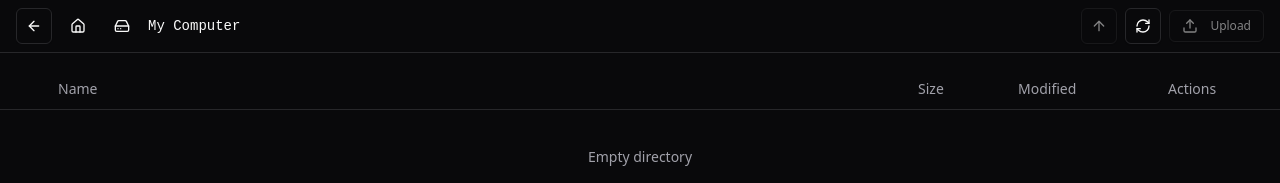
FileList initial user directory › retries the home request when the initial request failed
This screenshot has width=1280, height=183.
Expected: the button "Upload" is disabled, [1169, 10, 1264, 42]
Click the button named "Refresh" at (1143, 26), box [1125, 8, 1161, 44]
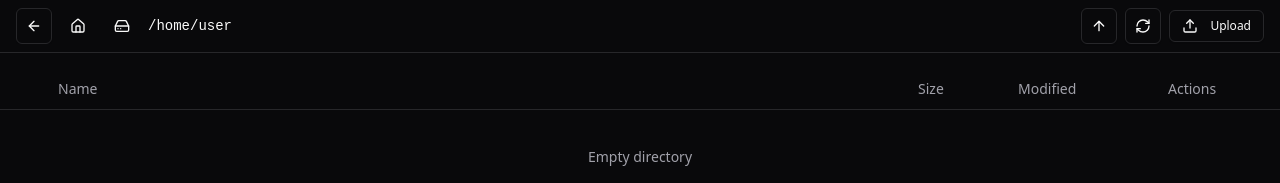
Expected: the link "/home/user" is shown, [148, 16, 232, 36]
